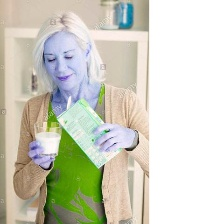carton: (54, 95, 126, 171)
glass: (32, 119, 65, 159), (94, 0, 122, 32), (114, 0, 136, 31)
